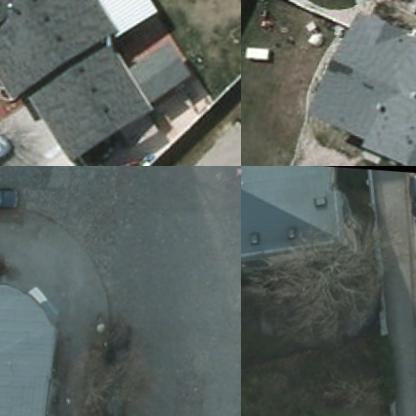car: (102, 320, 142, 372), (100, 374, 140, 415), (0, 182, 25, 215), (408, 173, 415, 223)
